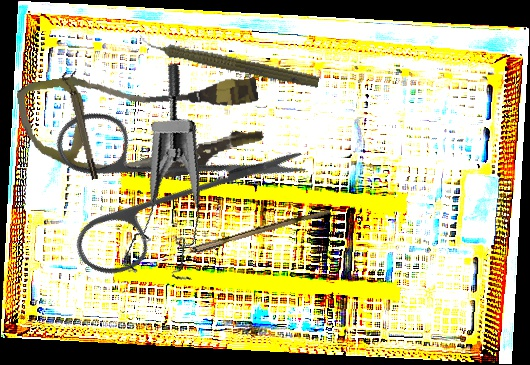Cannula: (15, 48, 269, 199)
Fixation Ring: (60, 70, 101, 182)
Handpiece: (136, 31, 322, 91)
Iris Scissors: (6, 31, 312, 336)
Speculum: (77, 60, 233, 296)
Surgical Spoon: (142, 204, 332, 271)
